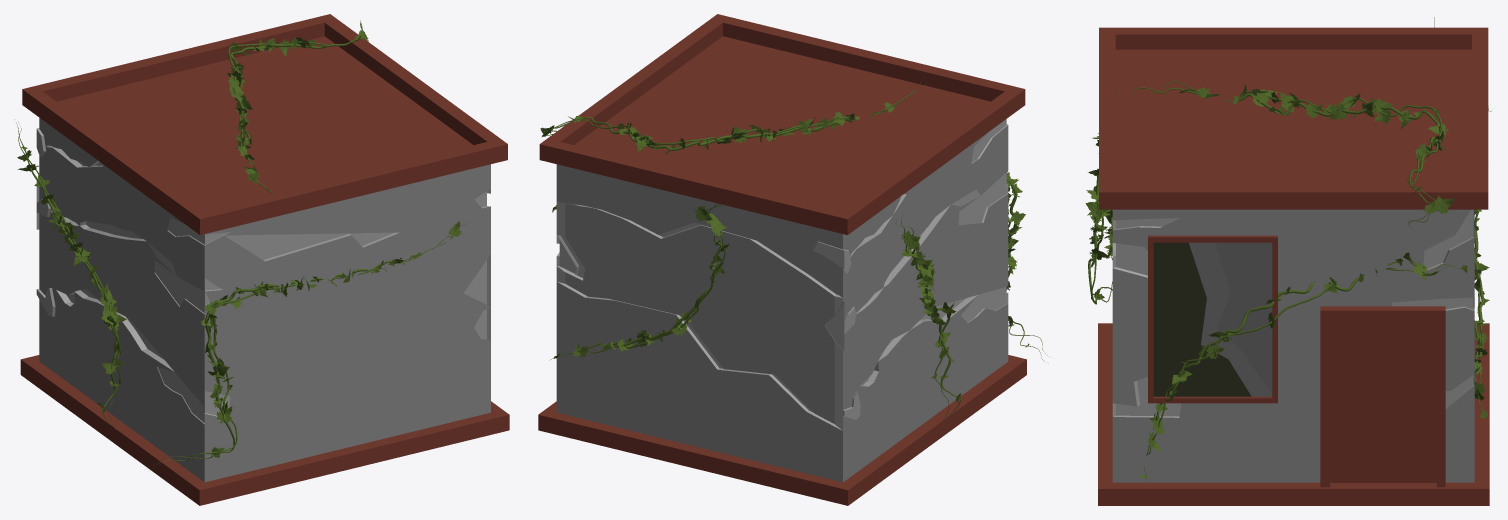
Rendered from Building4_Fix.fbx.
3 views of the same model, side by side, from view 1: azimuth 30°, elevation 25°; view 2: azimuth 150°, elevation 25°; view 3: azimuth 270°, elevation 25° (orthographic). The views are drawn at different scales.
Parts seen in each view (by area): view 1: Cube.004, Vines.001; view 2: Cube.004, Vines.001; view 3: Cube.004, Cube.001, Windows/Doors.006, Vines.001.
Part boxes in pixels (bbox=[...]): Cube.004: bbox=[20, 14, 509, 505]; Vines.001: bbox=[16, 20, 466, 468]; Cube.004: bbox=[538, 14, 1026, 505]; Vines.001: bbox=[540, 70, 1048, 420]; Cube.004: bbox=[1098, 27, 1489, 505]; Cube.001: bbox=[1320, 306, 1445, 487]; Windows/Doors.006: bbox=[1148, 235, 1277, 403]; Vines.001: bbox=[1085, 17, 1491, 484].
Bounding box in the file's own units: 461 × 362 × 403.
